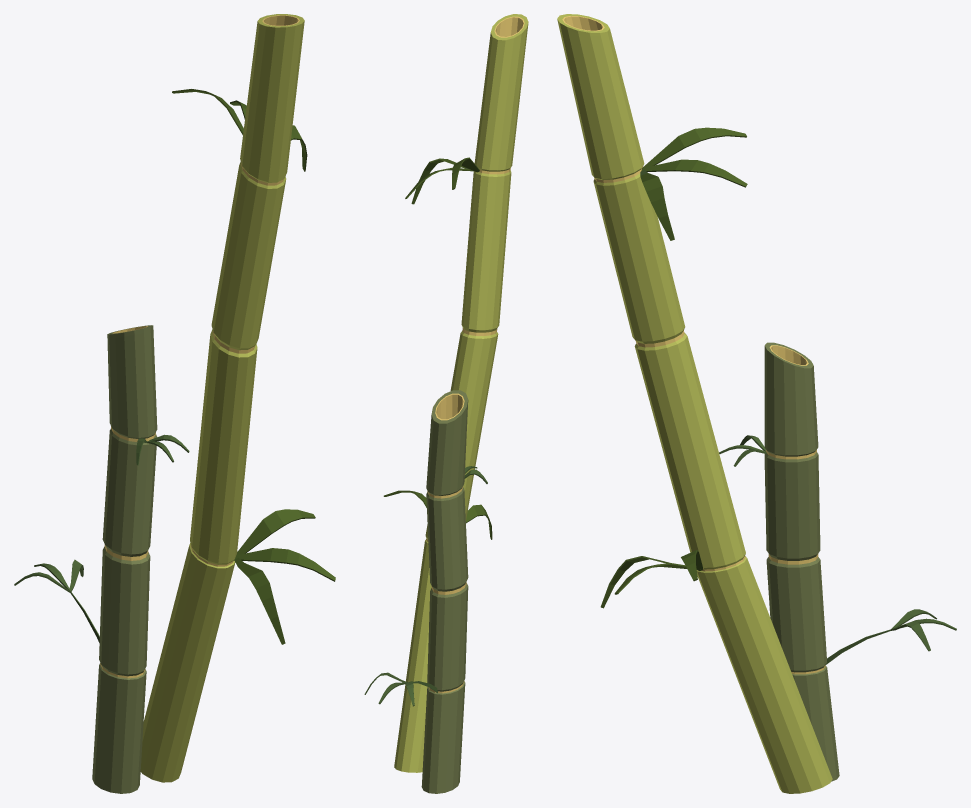
Rendered from Bamboo_Final(2).fbx.
3 renders of one model, left to right at view 1: azimuth 30°, elevation 25°; view 2: azimuth 150°, elevation 25°; view 3: azimuth 270°, elevation 25°, orthographic. The views are drawn at different scales.
Parts seen in each view (by area): view 1: Bamboo, Blaadjes; view 2: Bamboo, Blaadjes; view 3: Bamboo, Blaadjes.
Part boxes in pixels (bbox=[...]): Bamboo: bbox=[92, 14, 304, 793]; Blaadjes: bbox=[14, 89, 335, 644]; Bamboo: bbox=[394, 14, 528, 793]; Blaadjes: bbox=[364, 157, 492, 706]; Bamboo: bbox=[557, 14, 839, 793]; Blaadjes: bbox=[600, 127, 956, 664].
Bounding box in the file's own units: 117 × 562 × 263.
